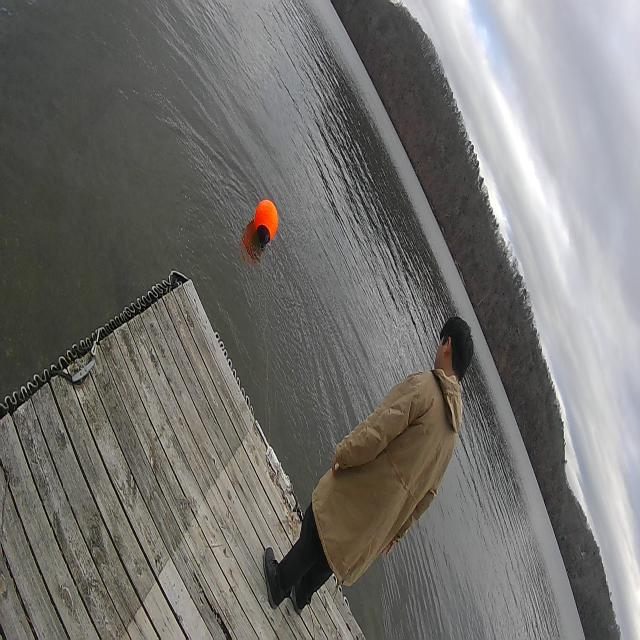Buoy: (244, 183, 288, 263)
